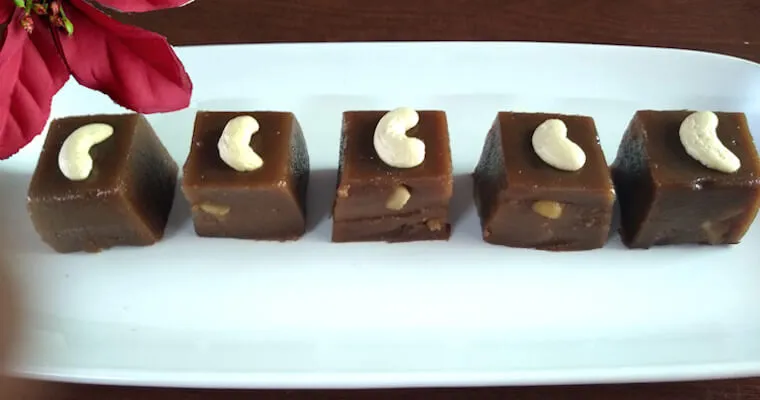dodol: (26, 103, 174, 253), (474, 110, 617, 252), (621, 107, 755, 249), (182, 109, 310, 242), (331, 108, 452, 245)
